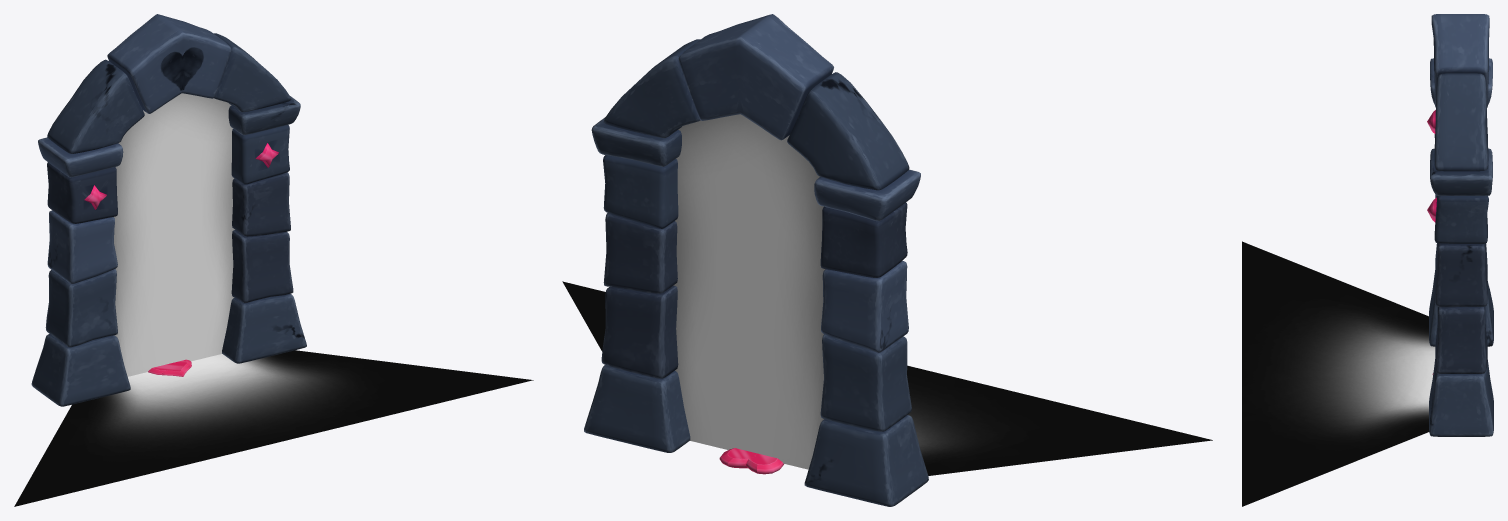
The model's file is Portal.fbx.
The picture shows the model from 3 angles, left to right: view 1: azimuth 30°, elevation 25°; view 2: azimuth 150°, elevation 25°; view 3: azimuth 270°, elevation 25°; orthographic projection. The views are drawn at different scales.
Parts seen in each view (by area): view 1: PortalEffect, PortalFrame; view 2: PortalFrame, PortalEffect; view 3: PortalEffect, PortalFrame.
Part boxes in pixels (bbox=[...]): PortalEffect: bbox=[14, 93, 533, 506]; PortalFrame: bbox=[31, 14, 306, 406]; PortalFrame: bbox=[584, 14, 928, 506]; PortalEffect: bbox=[562, 114, 1212, 475]; PortalEffect: bbox=[1242, 241, 1435, 506]; PortalFrame: bbox=[1427, 14, 1493, 436].
Size of the model in its own units: 5.69 by 3.65 by 2.28.
